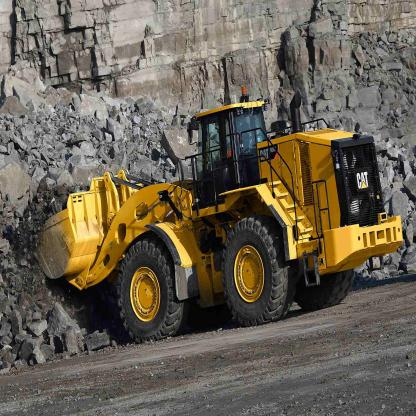bull_dozer/loader/grader: (19, 80, 404, 338)
